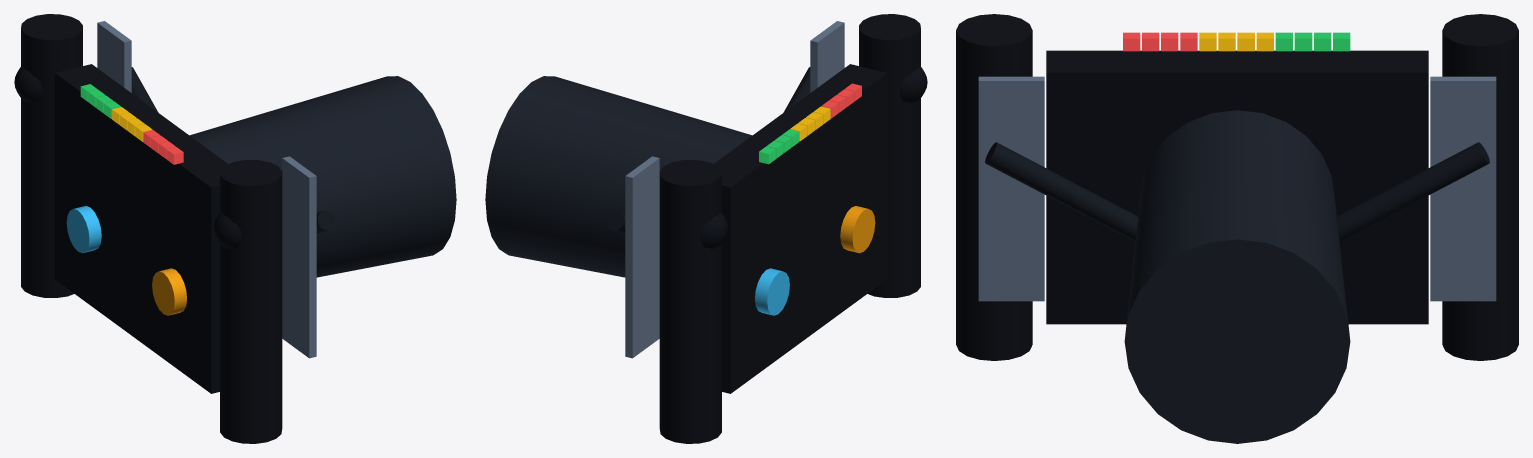
File: steering_formula.glb
3 views of the same model, side by side, from view 1: azimuth 30°, elevation 25°; view 2: azimuth 150°, elevation 25°; view 3: azimuth 270°, elevation 25° (orthographic). The views are drawn at different scales.
Visible parts, largest first — view 1: WheelRotatingGroup, SteeringColumn; view 2: WheelRotatingGroup, SteeringColumn; view 3: WheelRotatingGroup, SteeringColumn.
Boxes of the visible parts, box(x1,y1,x2,y2) form: WheelRotatingGroup: box(14, 14, 316, 443); SteeringColumn: box(131, 67, 456, 277); WheelRotatingGroup: box(625, 14, 927, 443); SteeringColumn: box(485, 67, 810, 277); WheelRotatingGroup: box(956, 14, 1518, 360); SteeringColumn: box(985, 110, 1489, 443).
Bounding box in the file's own units: 0.238 × 0.2 × 0.324.
